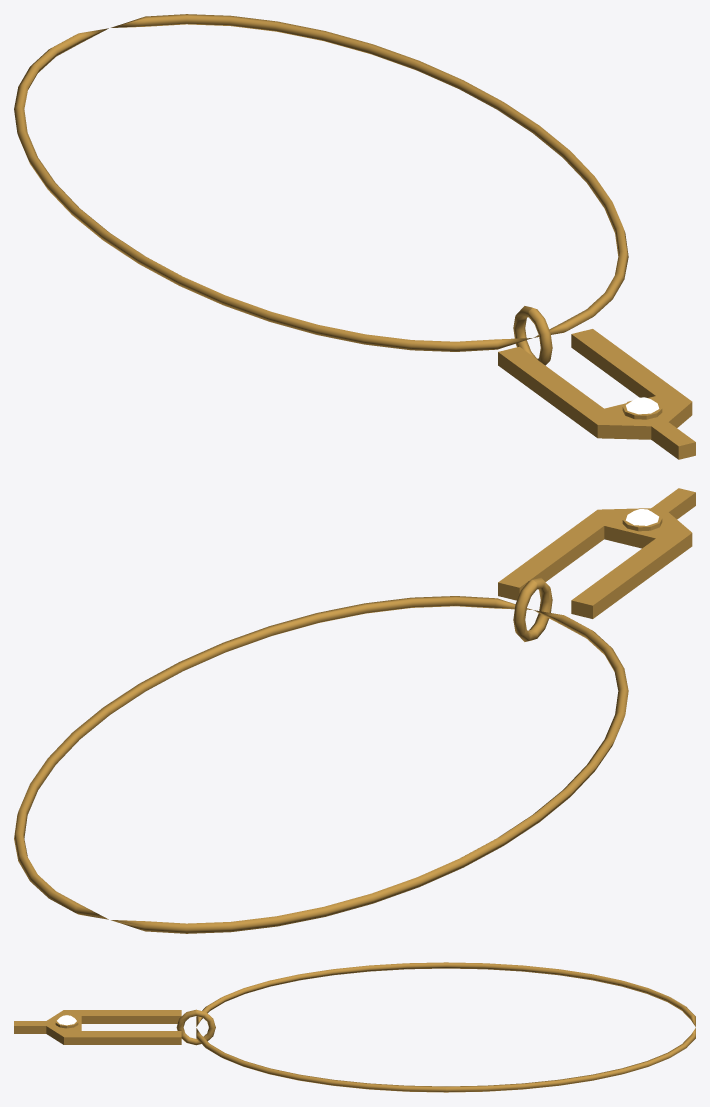
The model's file is amulet_resonant.glb.
3 views of the same model, one above another, from view 1: azimuth 30°, elevation 25°; view 2: azimuth 150°, elevation 25°; view 3: azimuth 270°, elevation 25° (orthographic). The views are drawn at different scales.
Visible parts, largest first — view 1: Amulet_Resonant_Brass; view 2: Amulet_Resonant_Brass; view 3: Amulet_Resonant_Brass.
Boxes of the visible parts, x1,y1,x2,y2 form: Amulet_Resonant_Brass: (14,14,695,459); Amulet_Resonant_Brass: (14,488,695,933); Amulet_Resonant_Brass: (14,962,695,1092).
Size of the model in its own units: 0.1021 by 0.0134 by 0.232.
